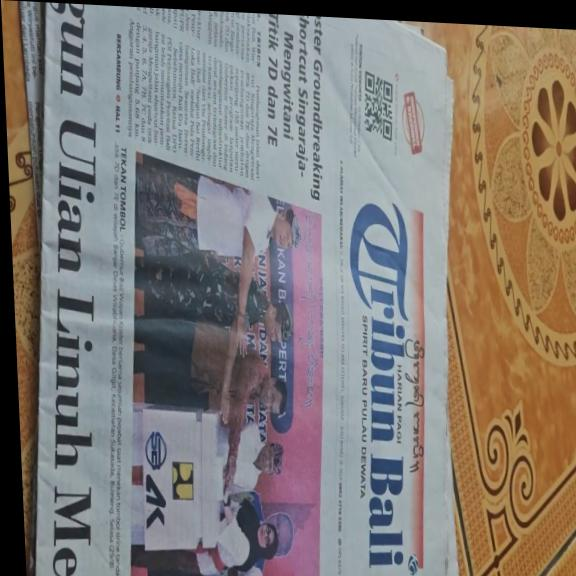Kertas: (17, 1, 466, 576)
